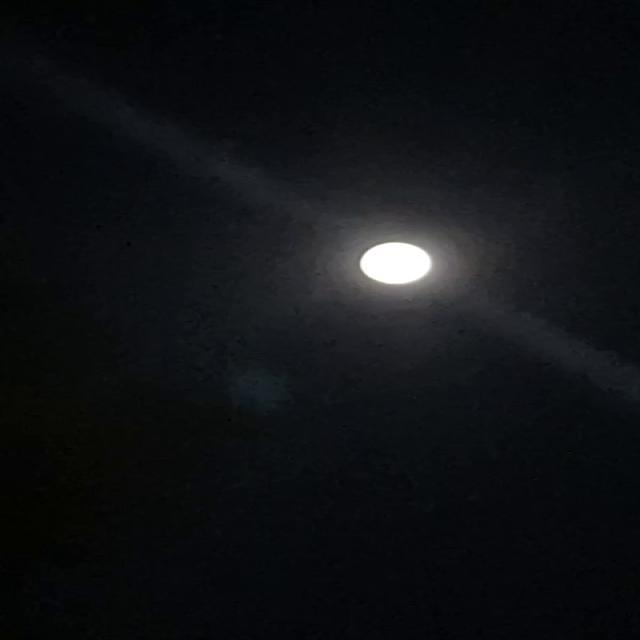moon: (346, 235, 462, 293)
